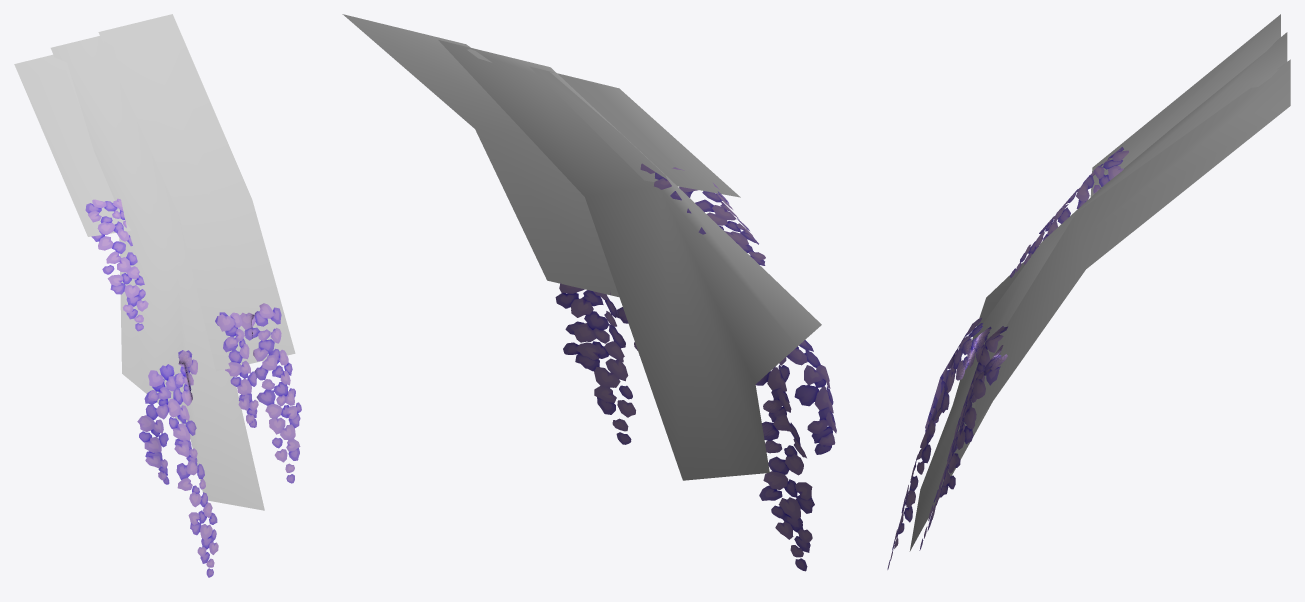
File: SM_Env_Vines_Preset_Roof_Convex_01.fbx
3 renders of one model, left to right at view 1: azimuth 30°, elevation 25°; view 2: azimuth 150°, elevation 25°; view 3: azimuth 270°, elevation 25°, orthographic. The views are drawn at different scales.
Visible parts, largest first — view 1: SM_Env_Vines_Preset_Roof_Convex_01; view 2: SM_Env_Vines_Preset_Roof_Convex_01; view 3: SM_Env_Vines_Preset_Roof_Convex_01.
Part boxes in pixels (x1,y1,x2,y2): SM_Env_Vines_Preset_Roof_Convex_01: (14, 14, 301, 577); SM_Env_Vines_Preset_Roof_Convex_01: (342, 14, 836, 571); SM_Env_Vines_Preset_Roof_Convex_01: (887, 14, 1290, 569).
Size of the model in its own units: 111 by 263 by 177.
